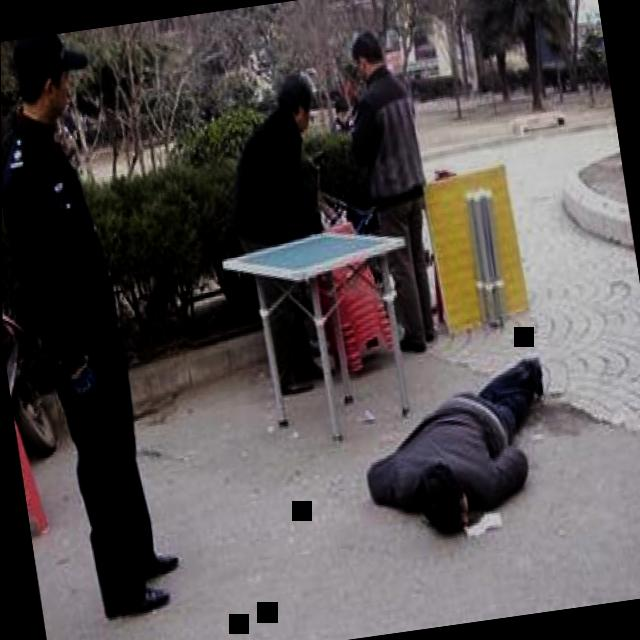Fall-Detected: (344, 326, 579, 556)
